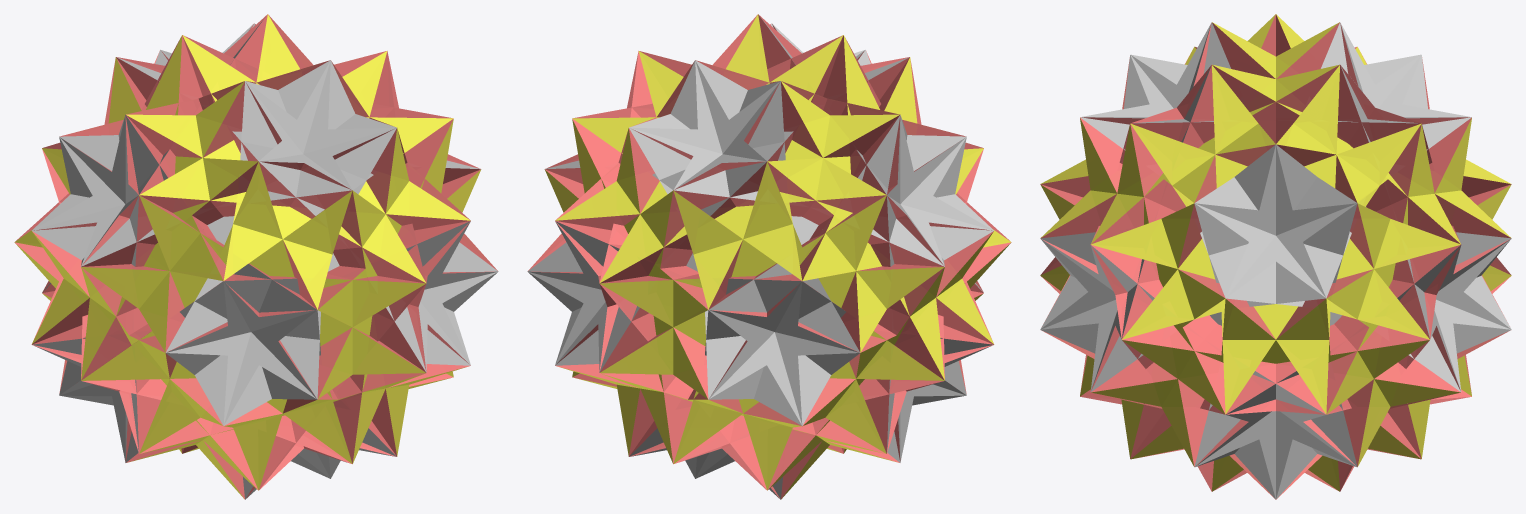
Rendered from GreatDirhombicosidodecahedron.obj.
3 renders of one model, left to right at view 1: azimuth 30°, elevation 25°; view 2: azimuth 150°, elevation 25°; view 3: azimuth 270°, elevation 25°, orthographic. The views are drawn at different scales.
Size of the model in its own units: 1.34 by 1.34 by 1.34.
